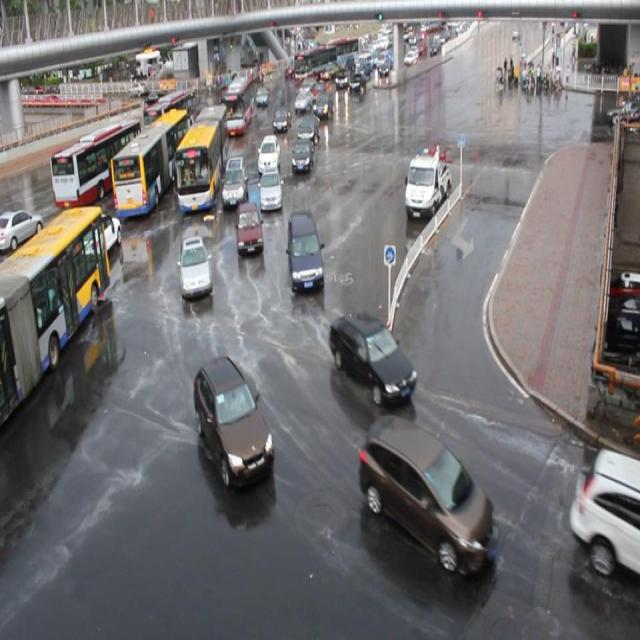bus: (403, 150, 451, 214)
car: (360, 410, 499, 577), (195, 354, 276, 491), (330, 307, 417, 401), (286, 209, 324, 294), (178, 233, 212, 298), (79, 214, 122, 264), (1, 204, 44, 250), (236, 199, 263, 255), (224, 157, 248, 204), (260, 168, 282, 212), (255, 133, 278, 170), (291, 134, 312, 174), (312, 90, 335, 119), (296, 114, 318, 142), (294, 82, 313, 114), (271, 104, 288, 133), (256, 84, 268, 104)
van: (0, 205, 110, 428), (109, 106, 191, 220), (47, 118, 143, 208), (177, 100, 230, 215), (144, 93, 198, 138), (224, 71, 258, 139)
